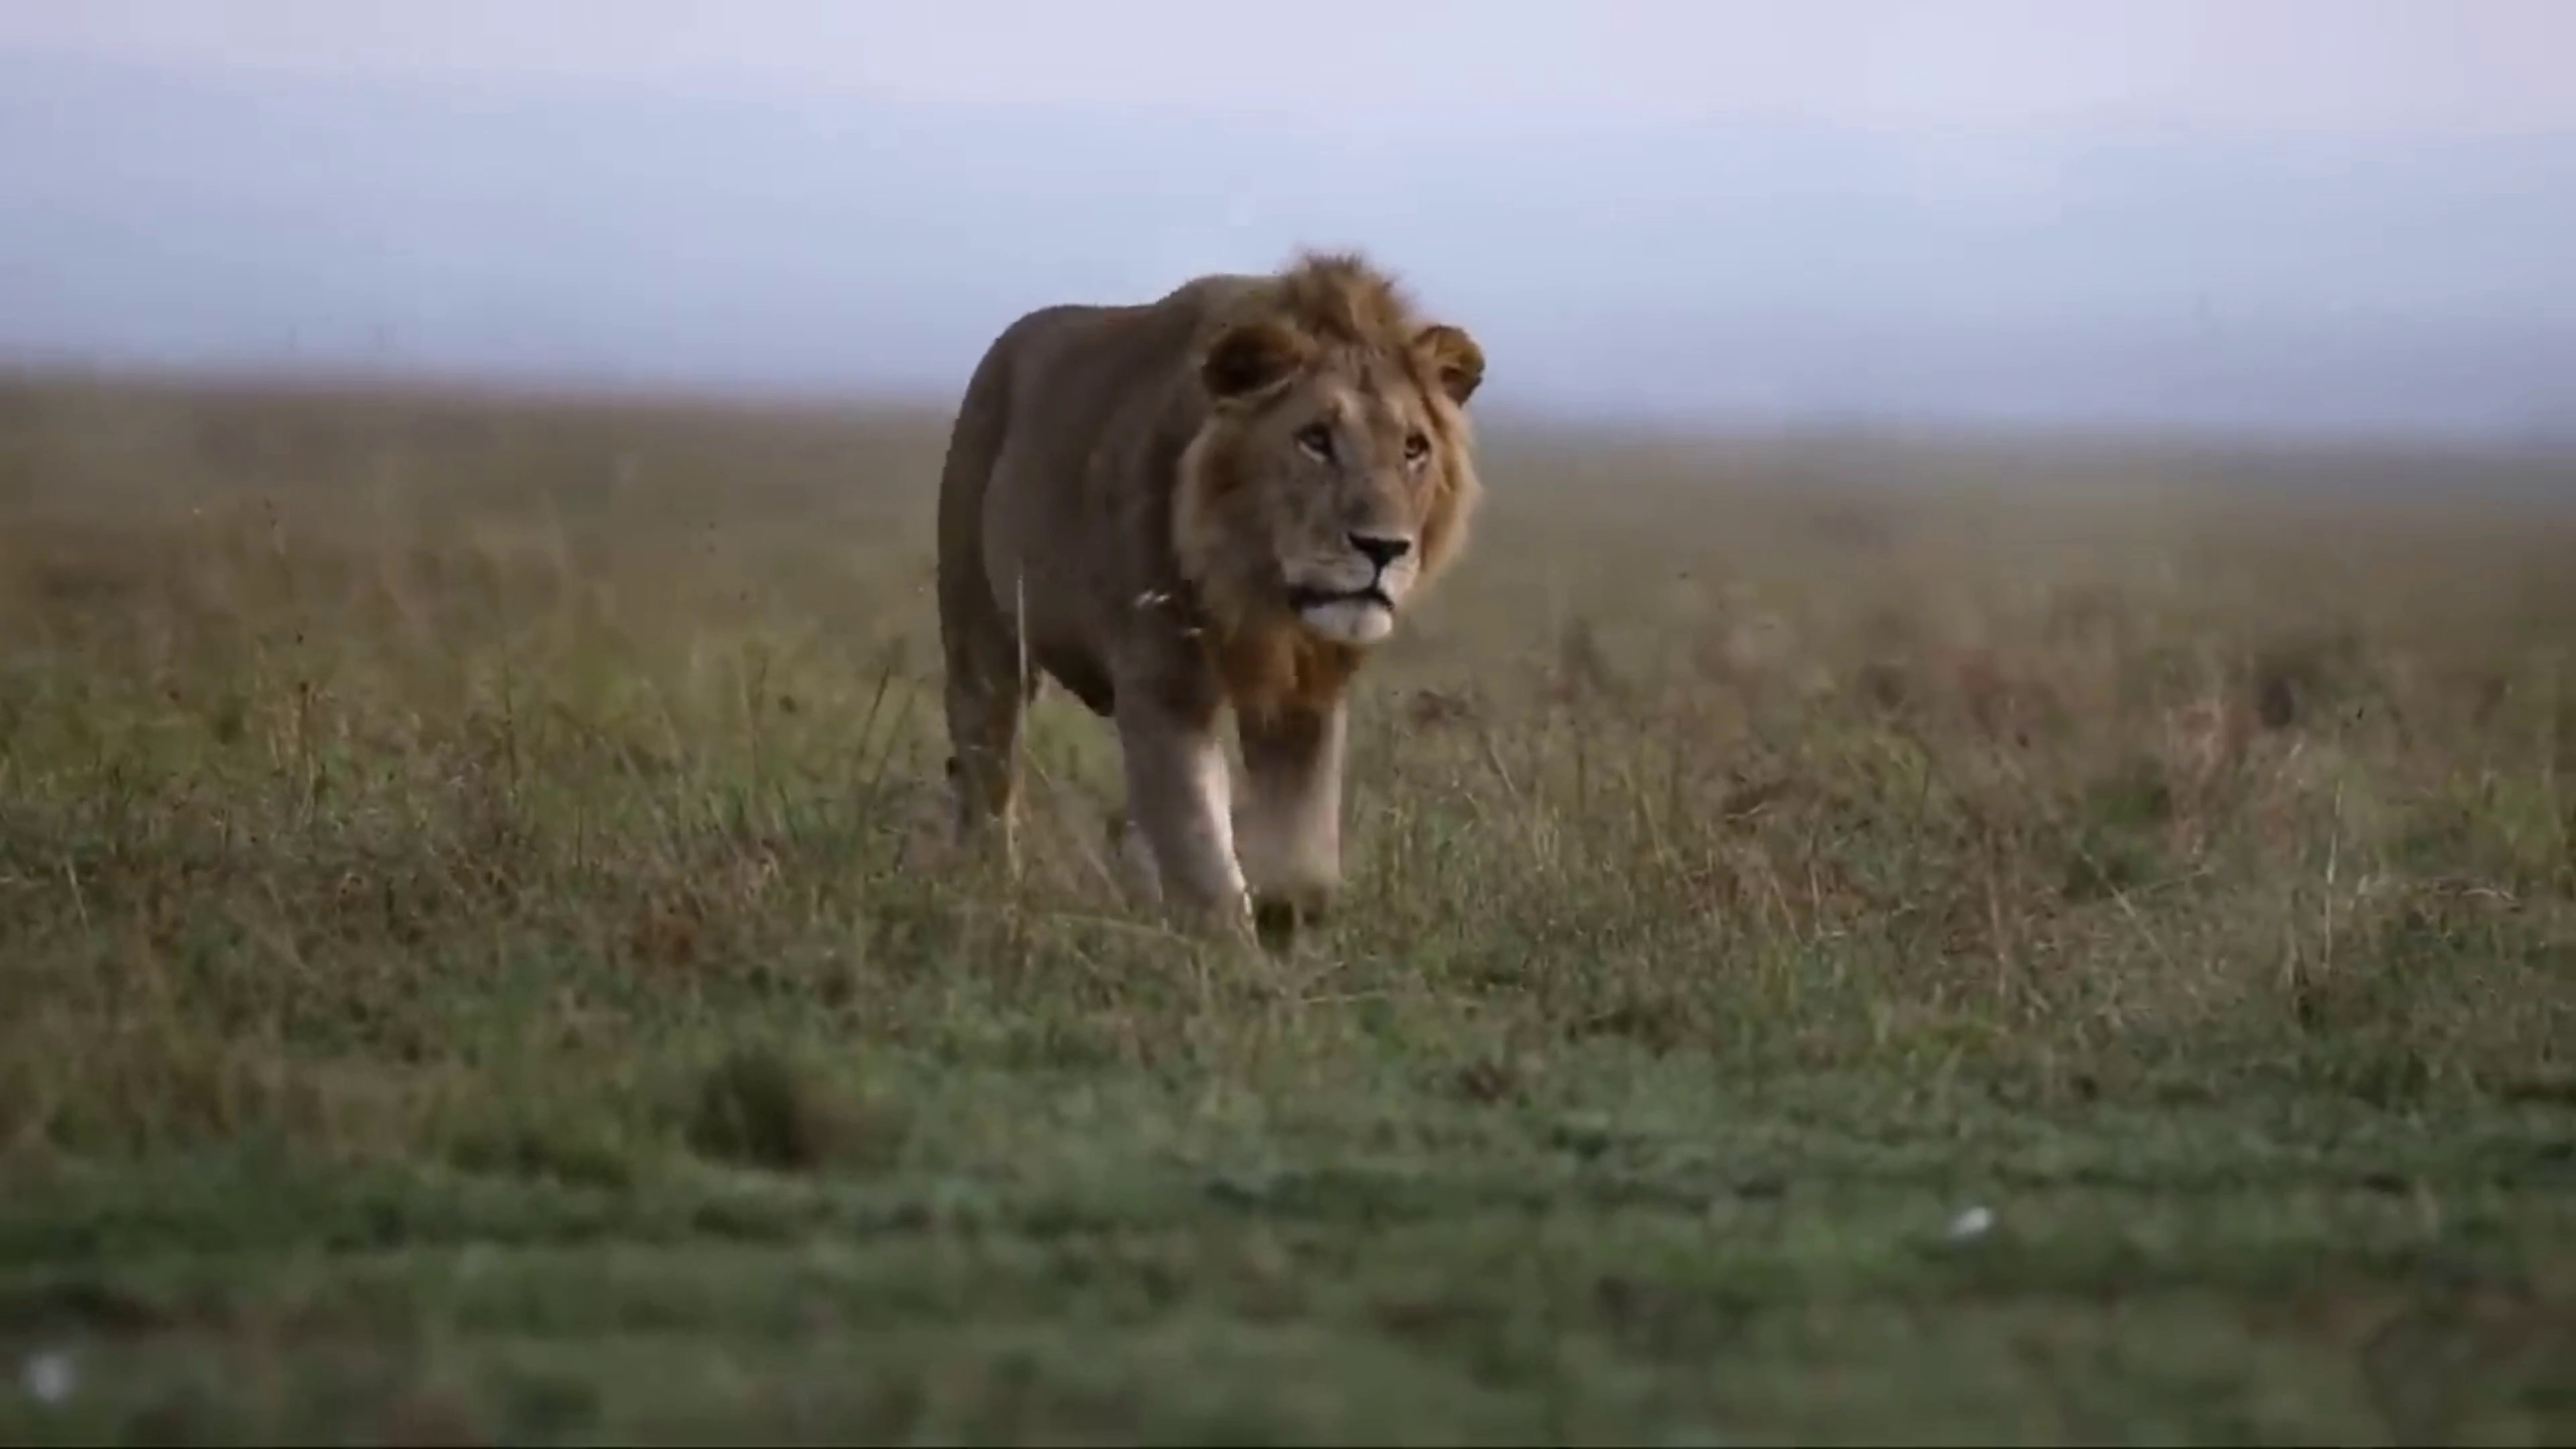Lion: (938, 248, 1491, 964)
